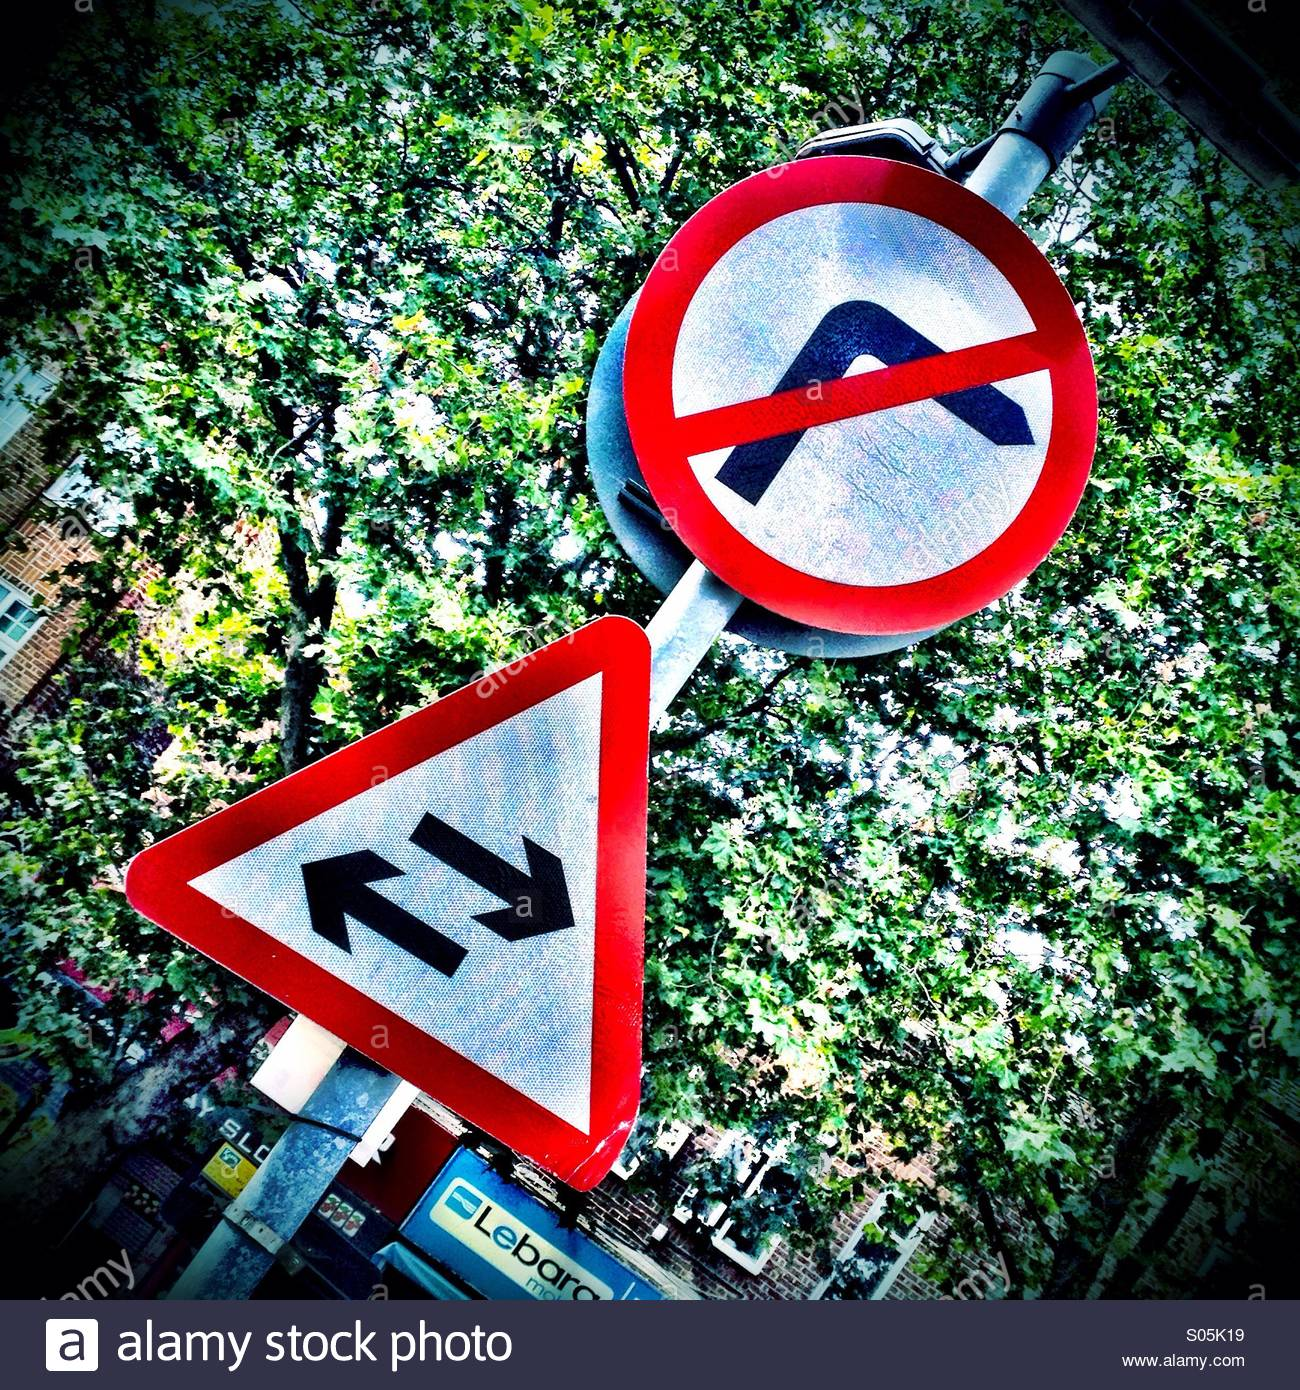No_right_turn: (622, 158, 1102, 638)
